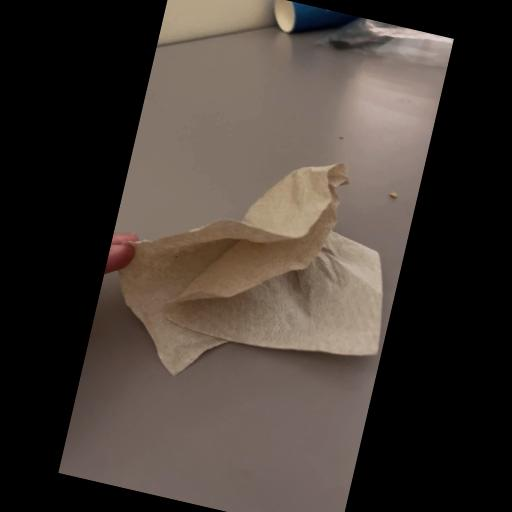napkin: (82, 98, 426, 436)
